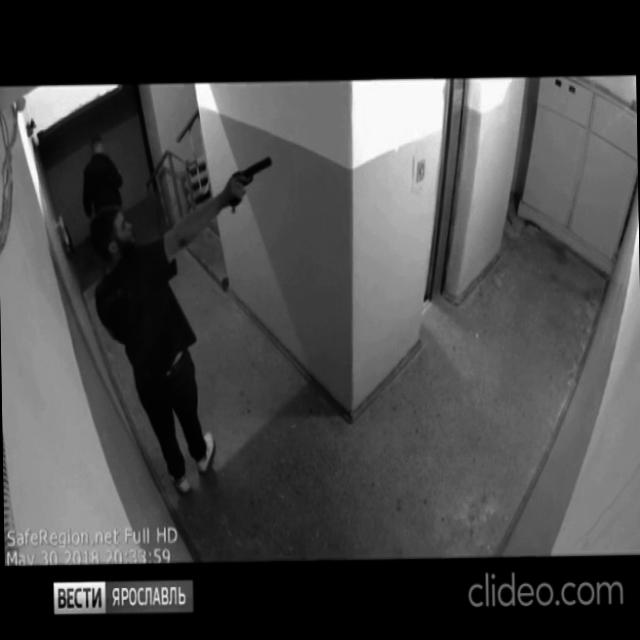gun: (227, 153, 274, 212)
person: (81, 132, 129, 264)
person with a gun: (86, 152, 282, 499)
